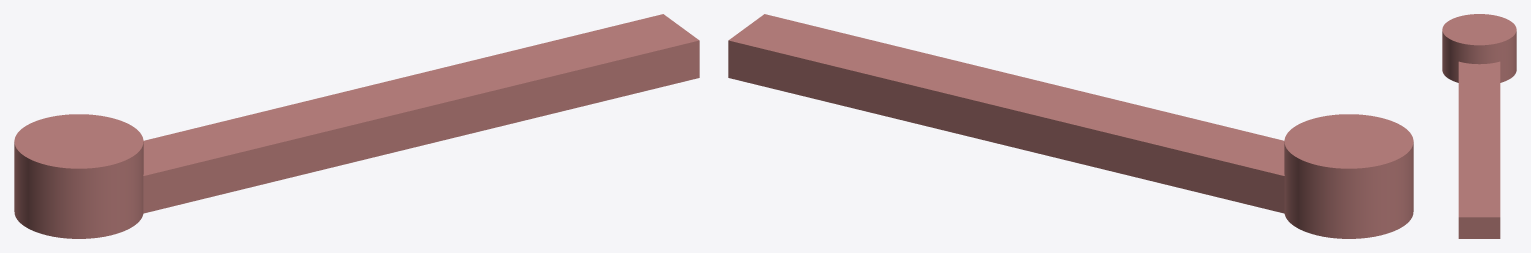
The model's file is step_42.glb.
3 views of the same model, side by side, from view 1: azimuth 30°, elevation 25°; view 2: azimuth 150°, elevation 25°; view 3: azimuth 270°, elevation 25° (orthographic). The views are drawn at different scales.
Visible parts, largest first — view 1: part__6" ball valve lever; view 2: part__6" ball valve lever; view 3: part__6" ball valve lever.
Boxes of the visible parts, box(x1,y1,x2,y2) form: part__6" ball valve lever: box(14, 14, 699, 238); part__6" ball valve lever: box(728, 14, 1413, 238); part__6" ball valve lever: box(1442, 14, 1516, 238).
Bounding box in the file's own units: 294 × 30 × 49.99.
